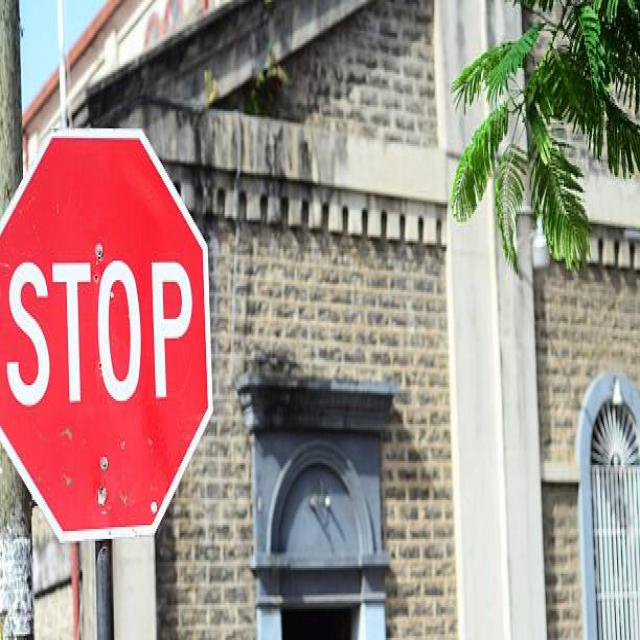stop: (0, 118, 216, 545)
